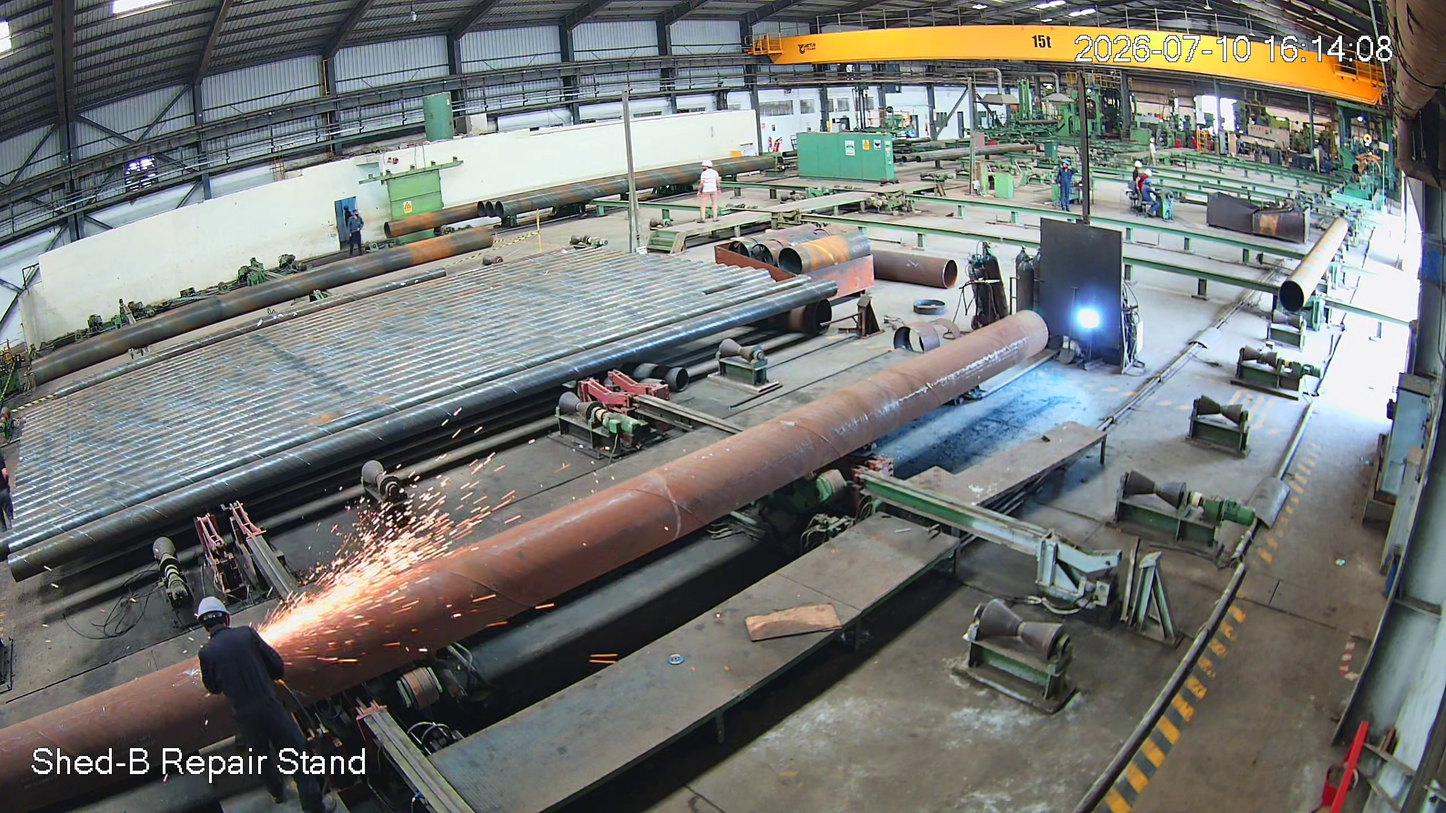Helmet: (189, 593, 249, 643), (699, 157, 717, 177)
Person: (190, 599, 346, 813), (697, 161, 723, 227)
